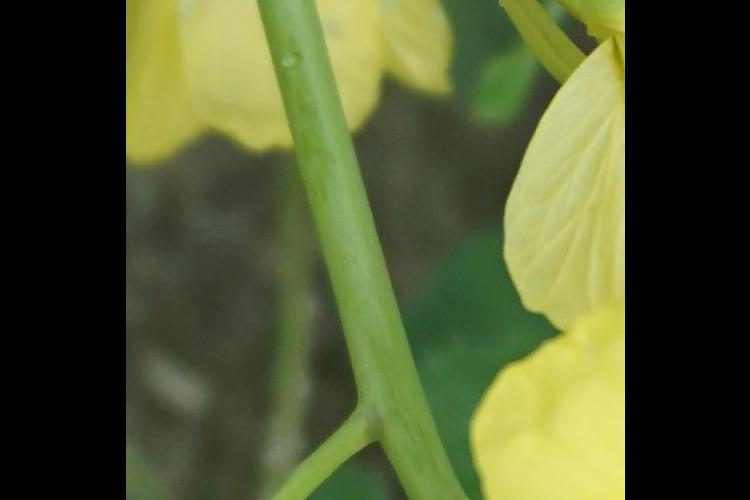yellow: (473, 1, 626, 500), (127, 1, 449, 173)
